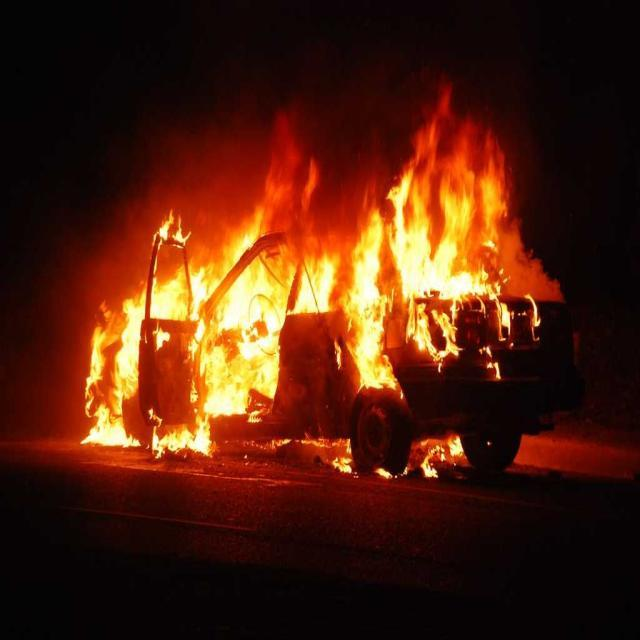Fire: (92, 306, 142, 400), (357, 248, 382, 380), (202, 352, 270, 399), (394, 211, 430, 291), (227, 276, 272, 333), (303, 266, 334, 308), (154, 277, 188, 315), (95, 416, 122, 446)
